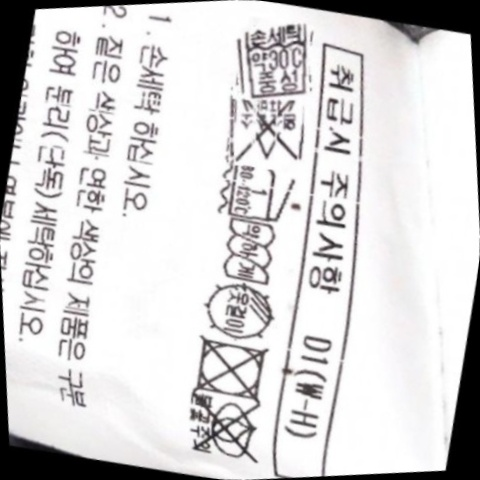DN_tumble_dry: (175, 321, 283, 415)
hand_wash: (223, 12, 327, 110)
iron_low: (213, 151, 302, 234)
line_dry_in_shade: (190, 269, 290, 353)
wring: (209, 209, 288, 295)
